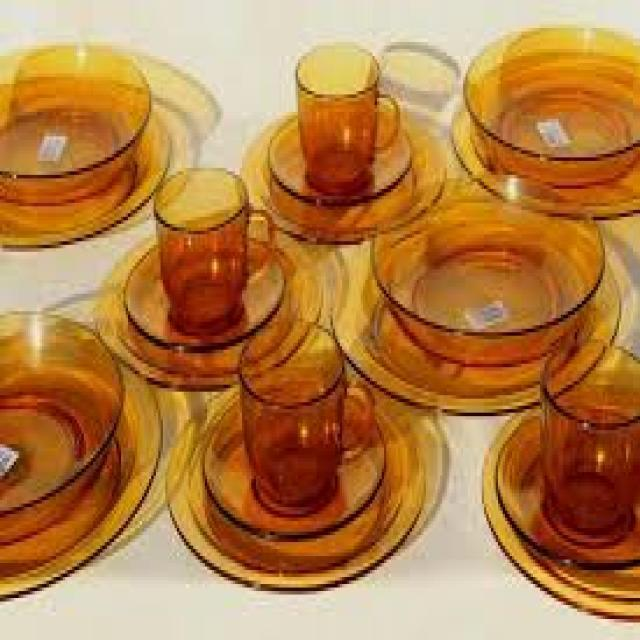Glass: (336, 198, 626, 419), (373, 170, 607, 366), (2, 334, 162, 602), (98, 216, 324, 393), (450, 48, 640, 219), (236, 102, 448, 245), (0, 74, 172, 248), (463, 18, 640, 186), (0, 312, 126, 547), (238, 318, 376, 506), (0, 41, 152, 200), (155, 162, 278, 328), (541, 337, 640, 538), (125, 236, 284, 351), (295, 39, 399, 190), (271, 102, 416, 204)
